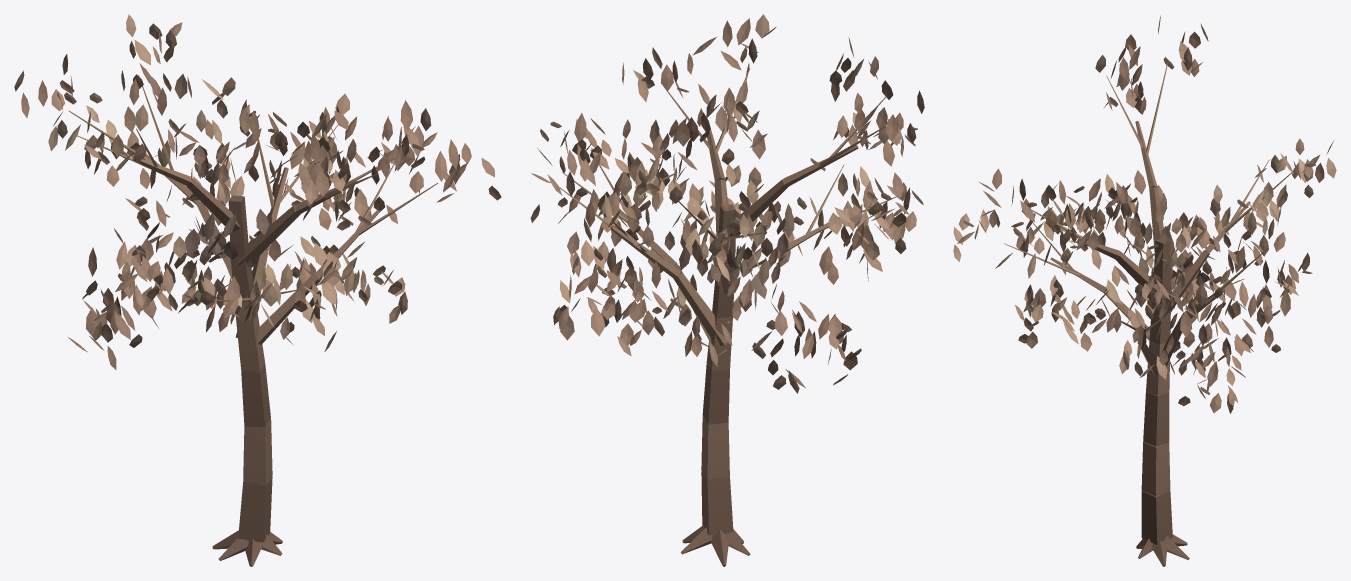
Rendered from tree_3d_01_copper.glb.
The picture shows the model from 3 angles, left to right: view 1: azimuth 30°, elevation 25°; view 2: azimuth 150°, elevation 25°; view 3: azimuth 270°, elevation 25°; orthographic projection. The views are drawn at different scales.
Parts seen in each view (by area): view 1: tree_3d_01_copper_foliage, tree_3d_01_copper_wood; view 2: tree_3d_01_copper_foliage, tree_3d_01_copper_wood; view 3: tree_3d_01_copper_foliage, tree_3d_01_copper_wood.
Part boxes in pixels (x1,y1,x2,y2): tree_3d_01_copper_foliage: (14,14,501,369); tree_3d_01_copper_wood: (69,75,437,566); tree_3d_01_copper_foliage: (530,14,924,393); tree_3d_01_copper_wood: (557,68,898,566); tree_3d_01_copper_foliage: (953,15,1336,413); tree_3d_01_copper_wood: (1004,62,1295,566).
Bounding box in the file's own units: 7.5 × 9 × 6.8.
